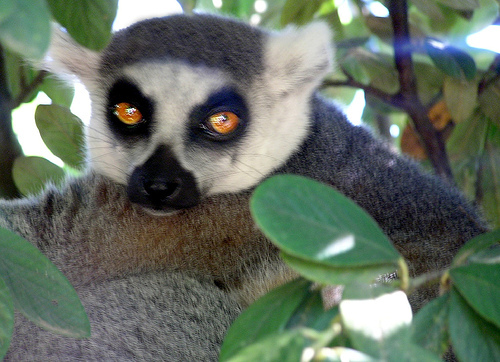cat: (3, 7, 493, 356)
